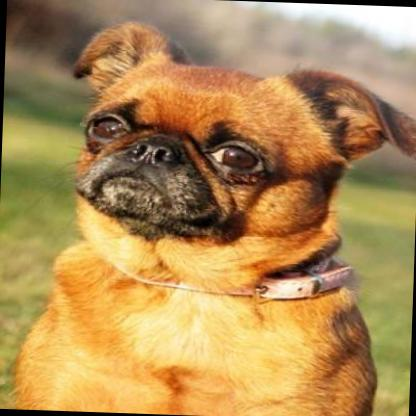Brabancon_griffon: (12, 17, 416, 416)
